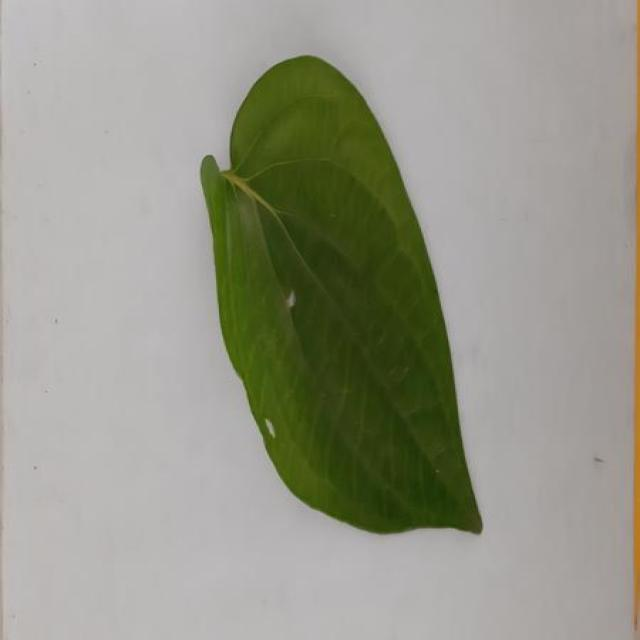betel: (202, 56, 482, 533)
